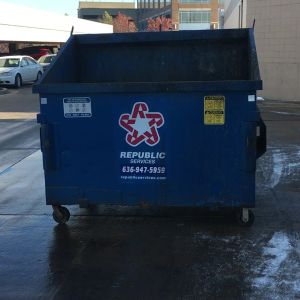Dumpster: (29, 25, 275, 232)
